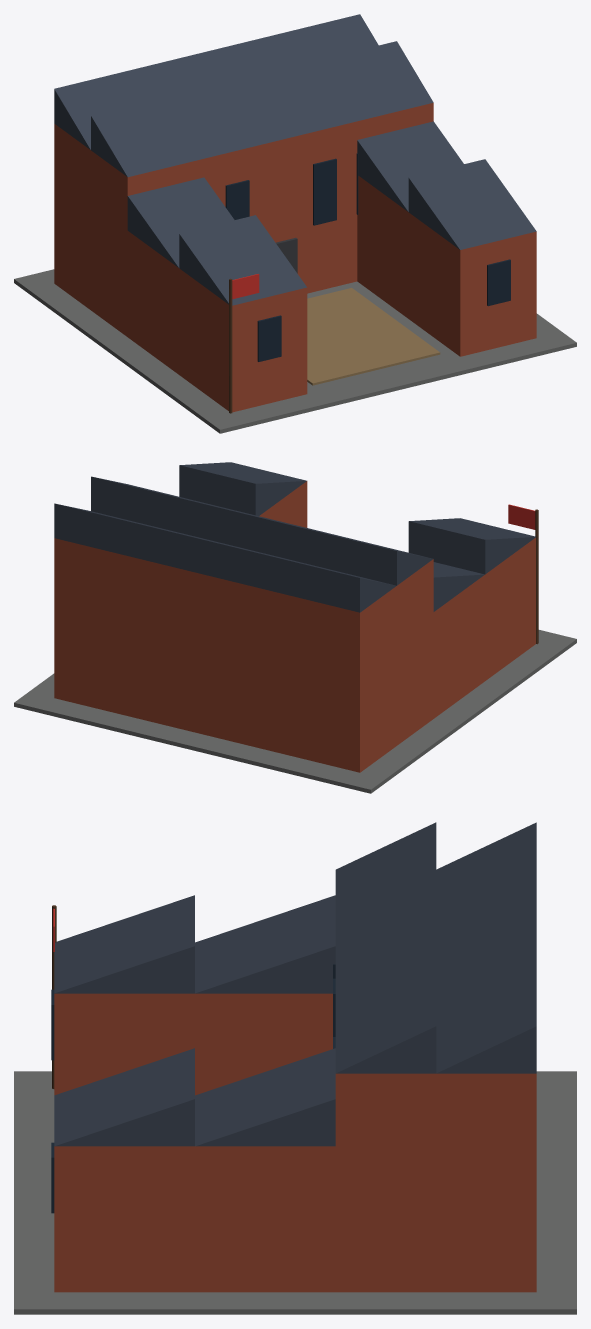
The model's file is bld_special_barracks_a05_lod1.glb.
3 renders of one model, top to bottom at view 1: azimuth 30°, elevation 25°; view 2: azimuth 150°, elevation 25°; view 3: azimuth 270°, elevation 25°, orthographic. The views are drawn at different scales.
Visible parts, largest first — view 1: body; view 2: body; view 3: body.
Part boxes in pixels (box(x1,y1,x2,y2)): body: box(14, 14, 576, 433); body: box(14, 462, 576, 793); body: box(14, 822, 576, 1314).
Size of the model in its own units: 14 by 7.45 by 14.
